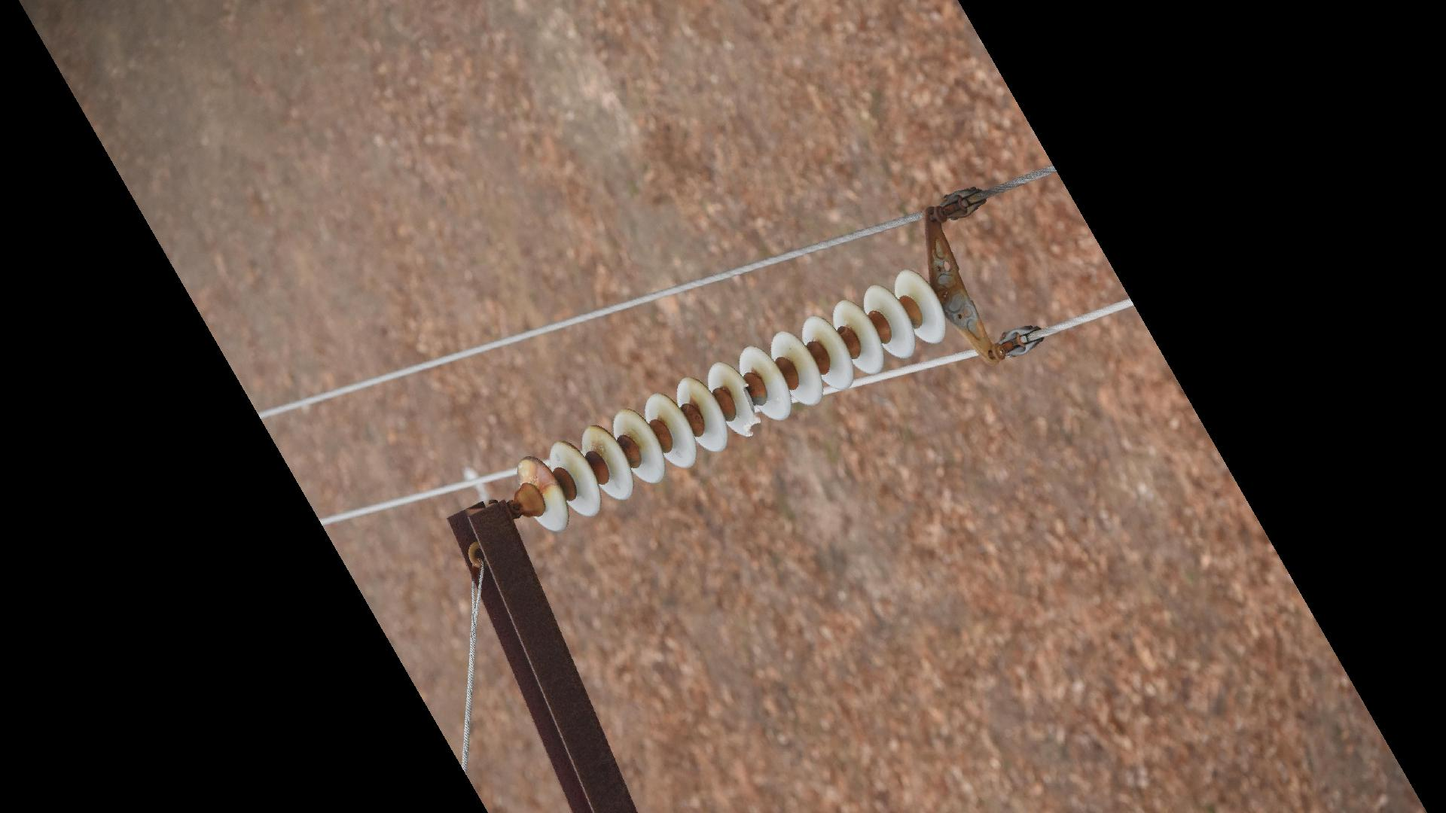insulator: (511, 263, 951, 537)
insulator_breakage: (738, 376, 765, 440)
